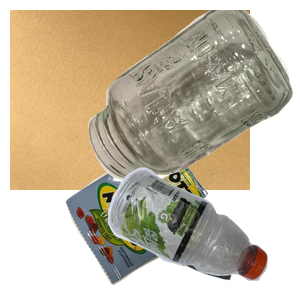cardboard: (10, 10, 250, 190)
glass: (86, 10, 300, 184)
plastic: (105, 165, 300, 300)
trash: (63, 137, 289, 300)
